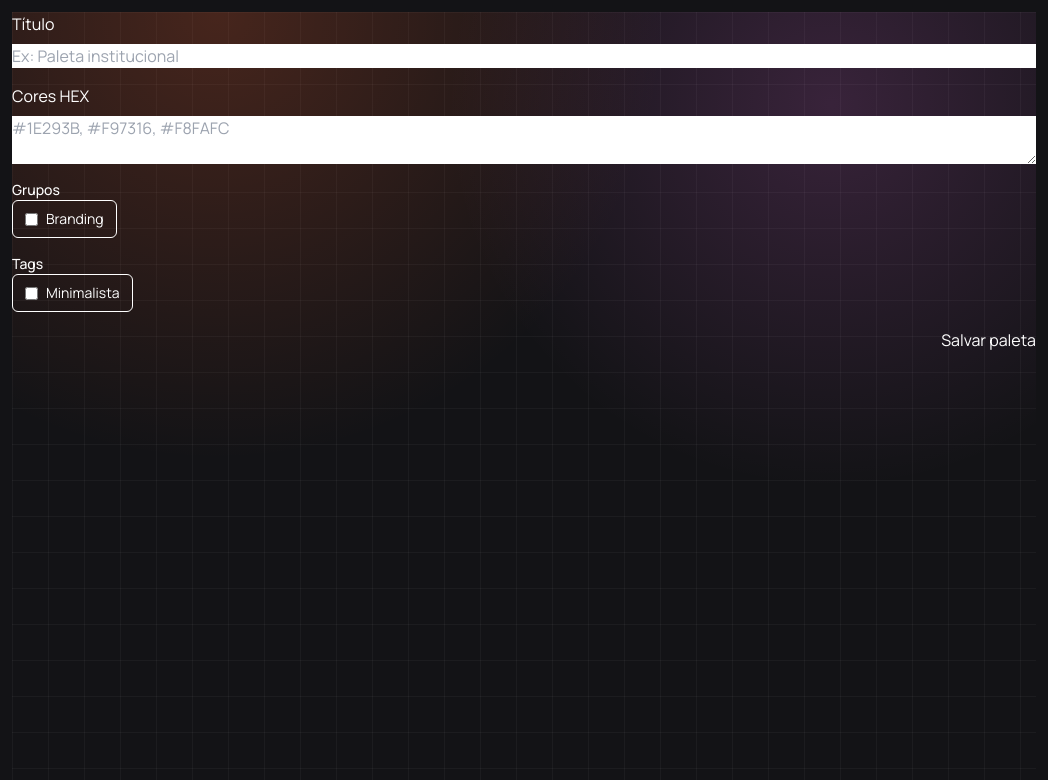
PaletteForm › shows validation errors for required title and invalid colors
Type "azul" into the text box labelled "Cores HEX".
click(524, 140); type("azul")  # box [12,116,1036,164]
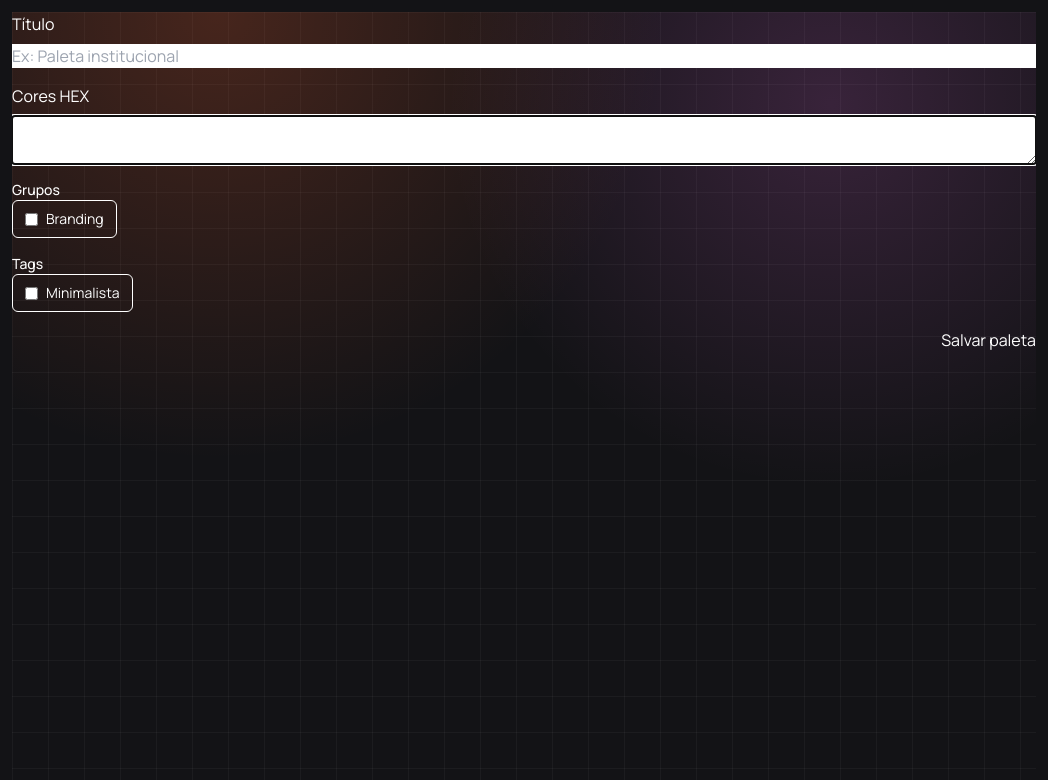
Click the button "Salvar paleta".
click(989, 340)  # box [941,328,1036,352]
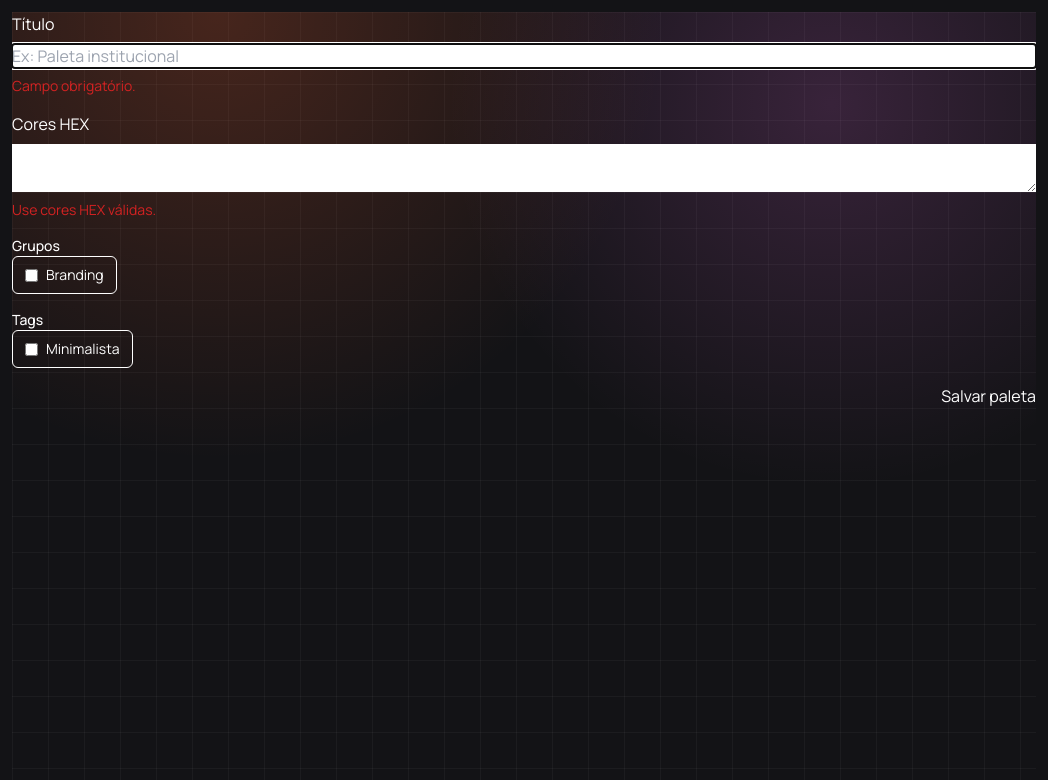
Result: the text "Campo obrigatório." is shown at [12,76,136,95]
Result: the text "Use cores HEX válidas." is shown at [12,200,156,219]
